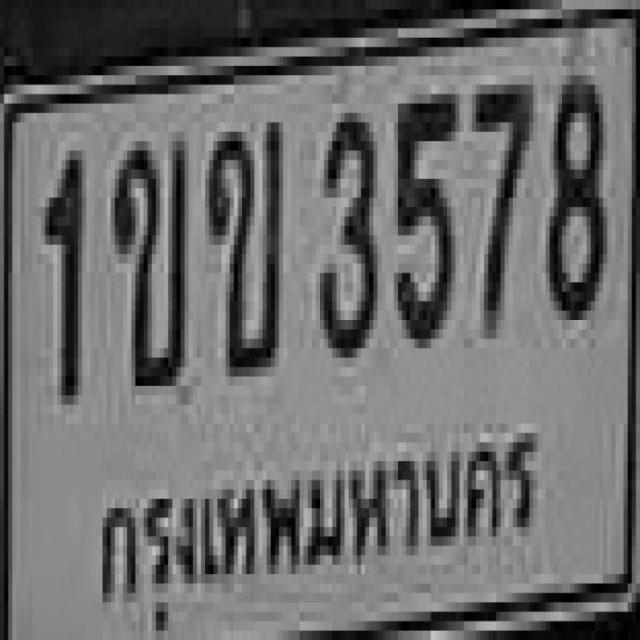1: (42, 142, 80, 395)
3: (315, 105, 374, 349)
5: (392, 84, 453, 338)
7: (469, 75, 528, 328)
8: (543, 68, 600, 310)
A02: (204, 118, 279, 367), (110, 131, 183, 385)
BKK: (90, 416, 547, 596)
